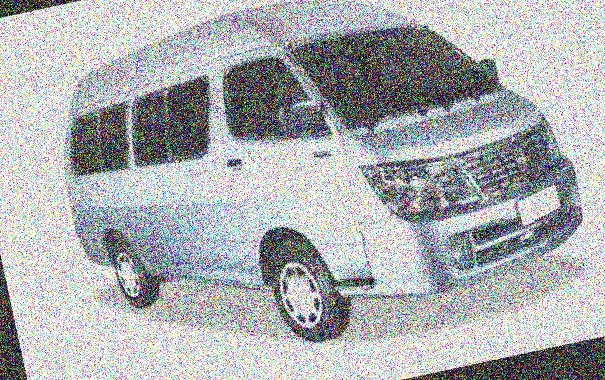van: (23, 0, 601, 380)
